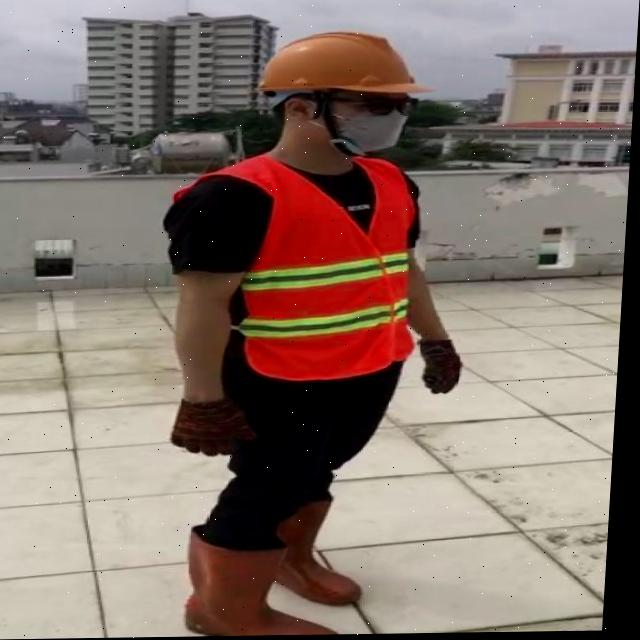Gloves: (174, 396, 266, 457), (419, 338, 467, 396)
Helmet: (257, 30, 440, 109)
Safety-Boot: (188, 523, 353, 637), (278, 495, 375, 607)
Safety-Vest: (164, 153, 428, 384)
